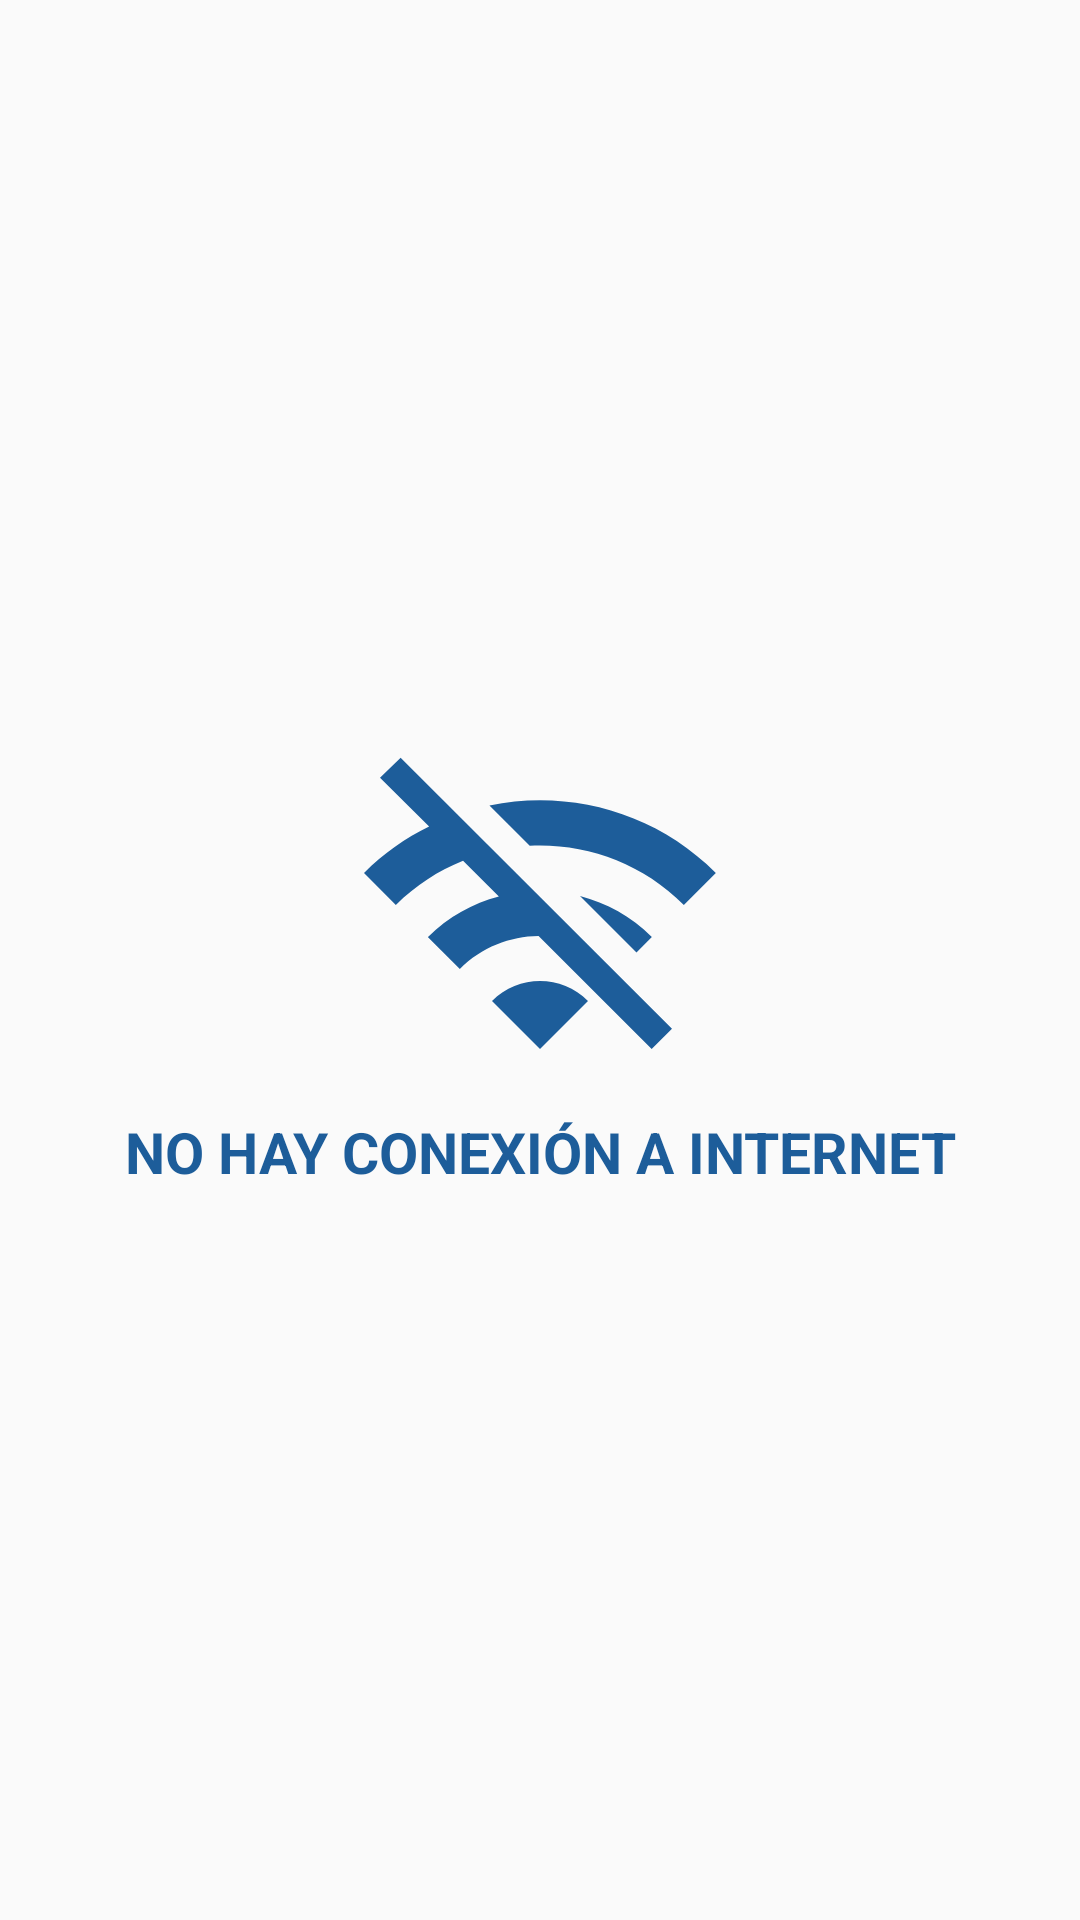

Screen size 1080px x 1920px. Icon name, then its center in pixels as (x,y):
Wifi icon: (540,903)
